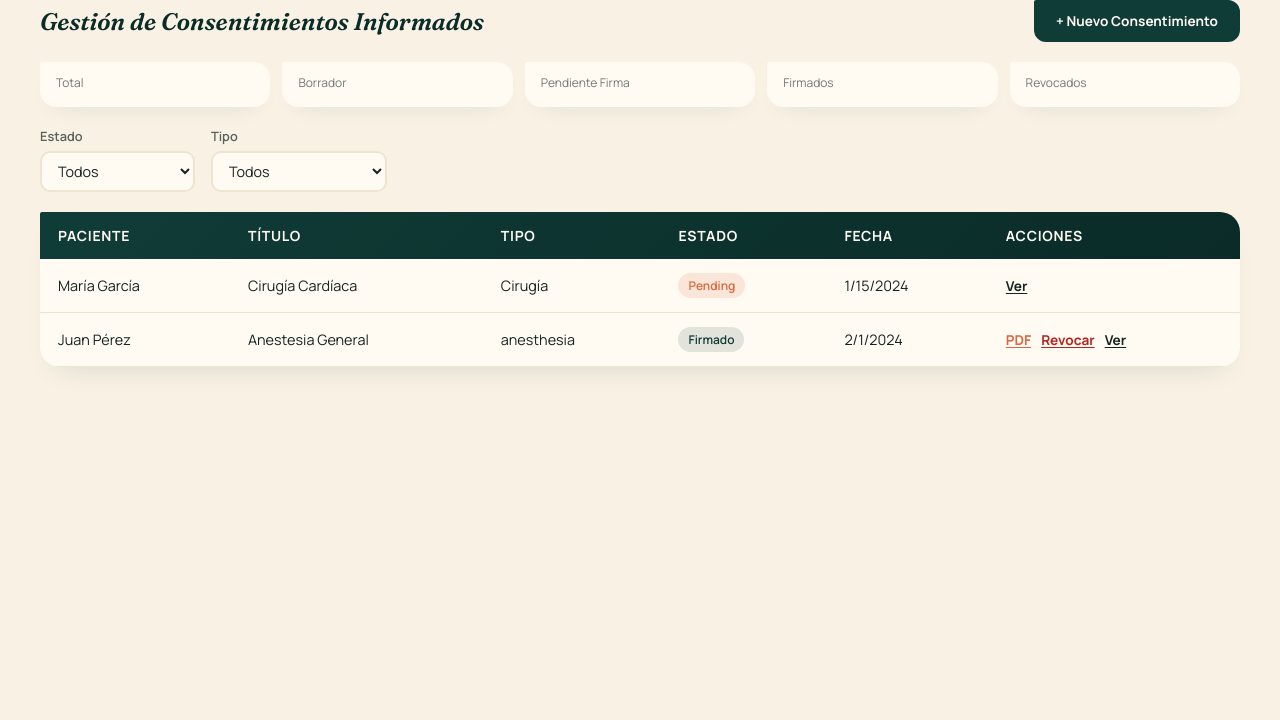
it: ConsentManagement › Consent list actions › closes detail modal via Cerrar
Check: the text "Cirugía Cardíaca" is shown, box [230,259,483,312]
Click the button "Ver" in the row of "María García".
click(1017, 286)  # box [1006,276,1027,294]
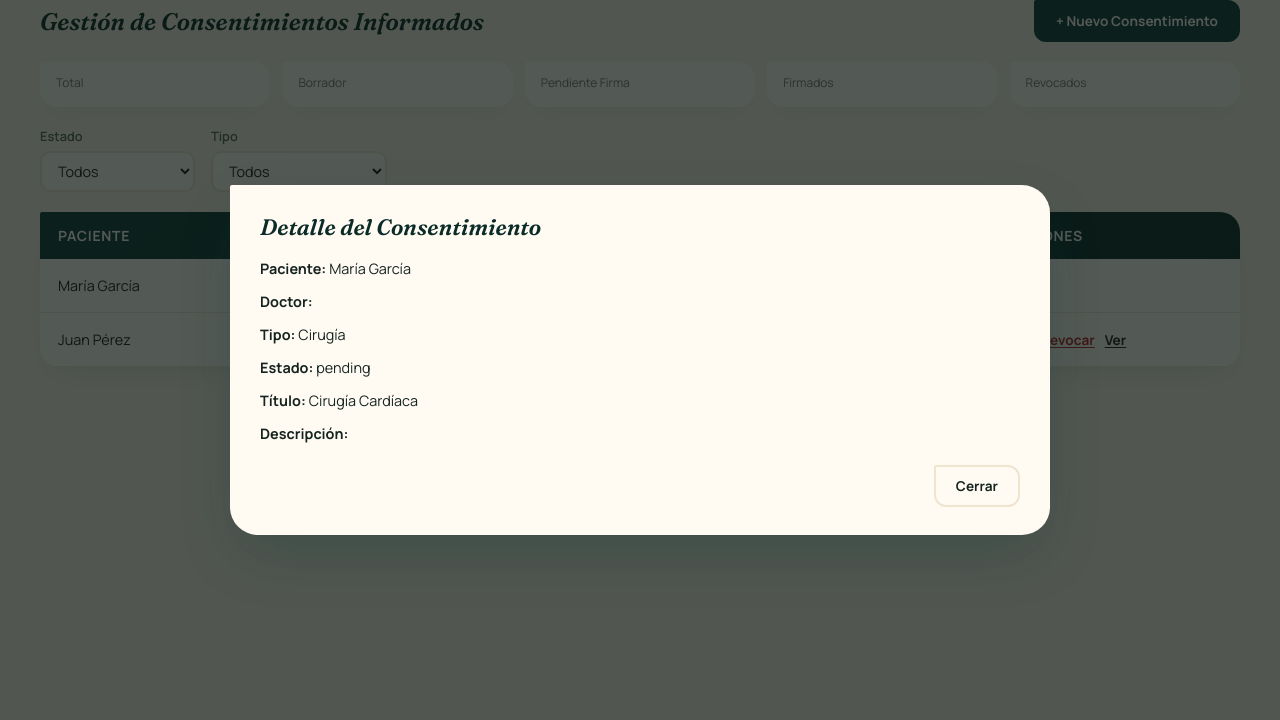
Click the button "Cerrar".
click(977, 486)  # box [934,465,1020,507]
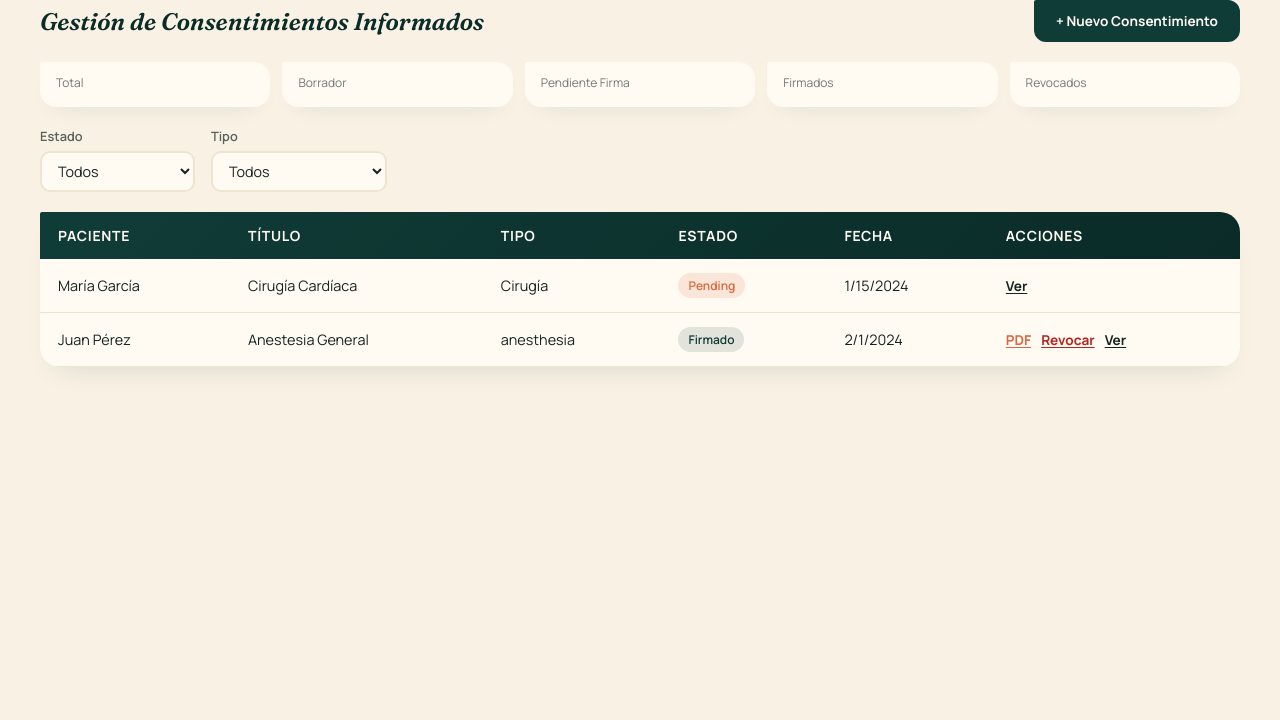
Check: the heading "Detalle del Consentimiento" is gone
